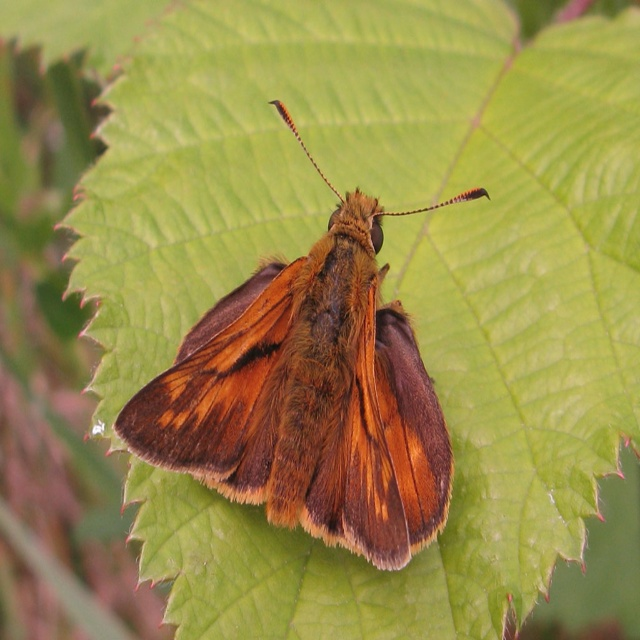Butterfly: (93, 84, 499, 577)
